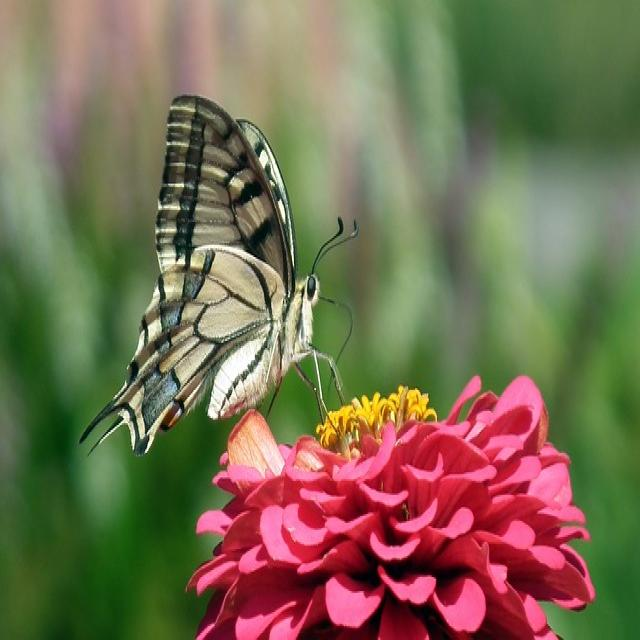butterfly: (81, 96, 319, 455)
